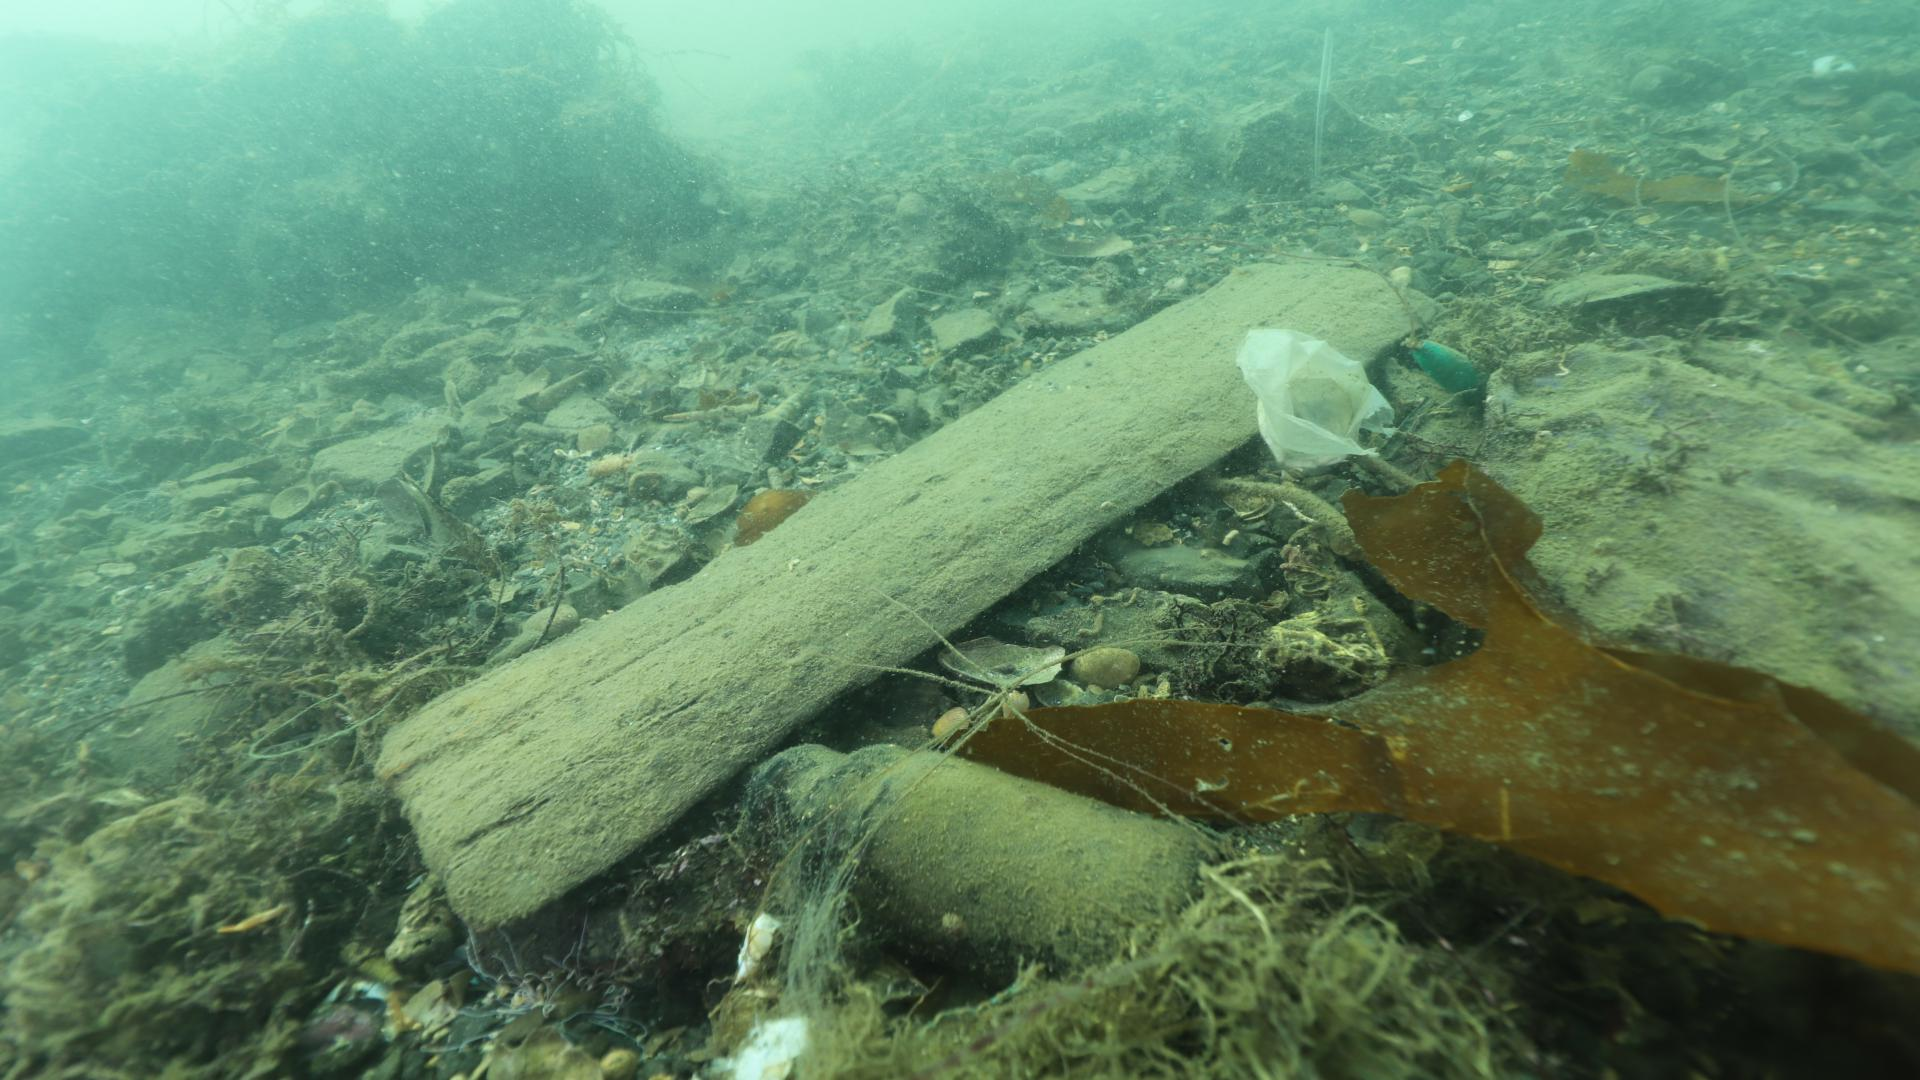wood: (372, 256, 1416, 938)
